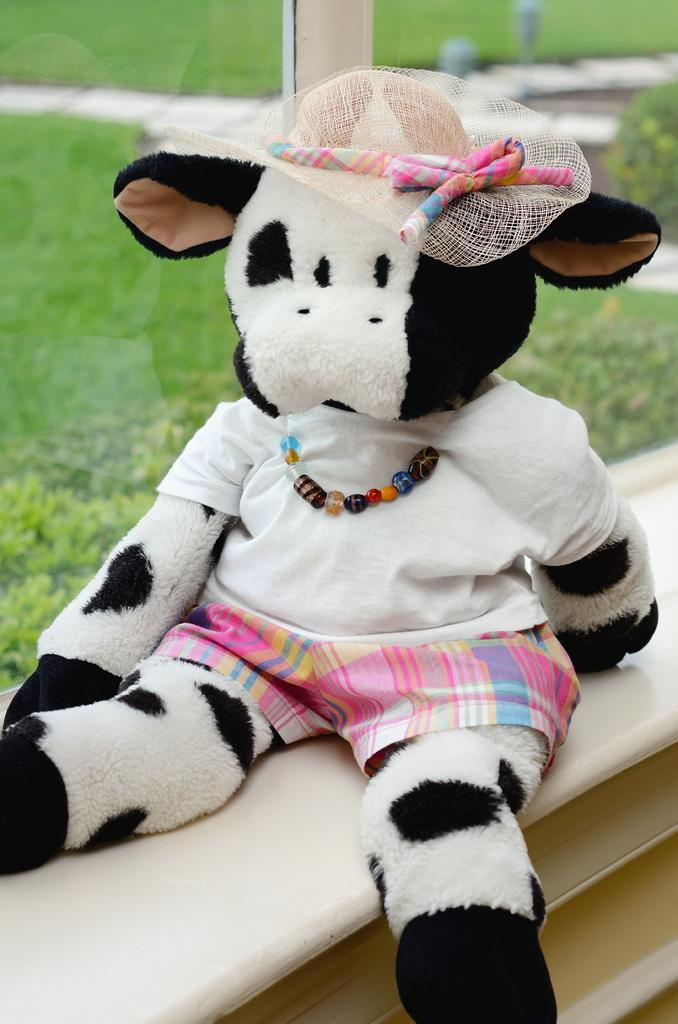Hat: (135, 58, 594, 264)
